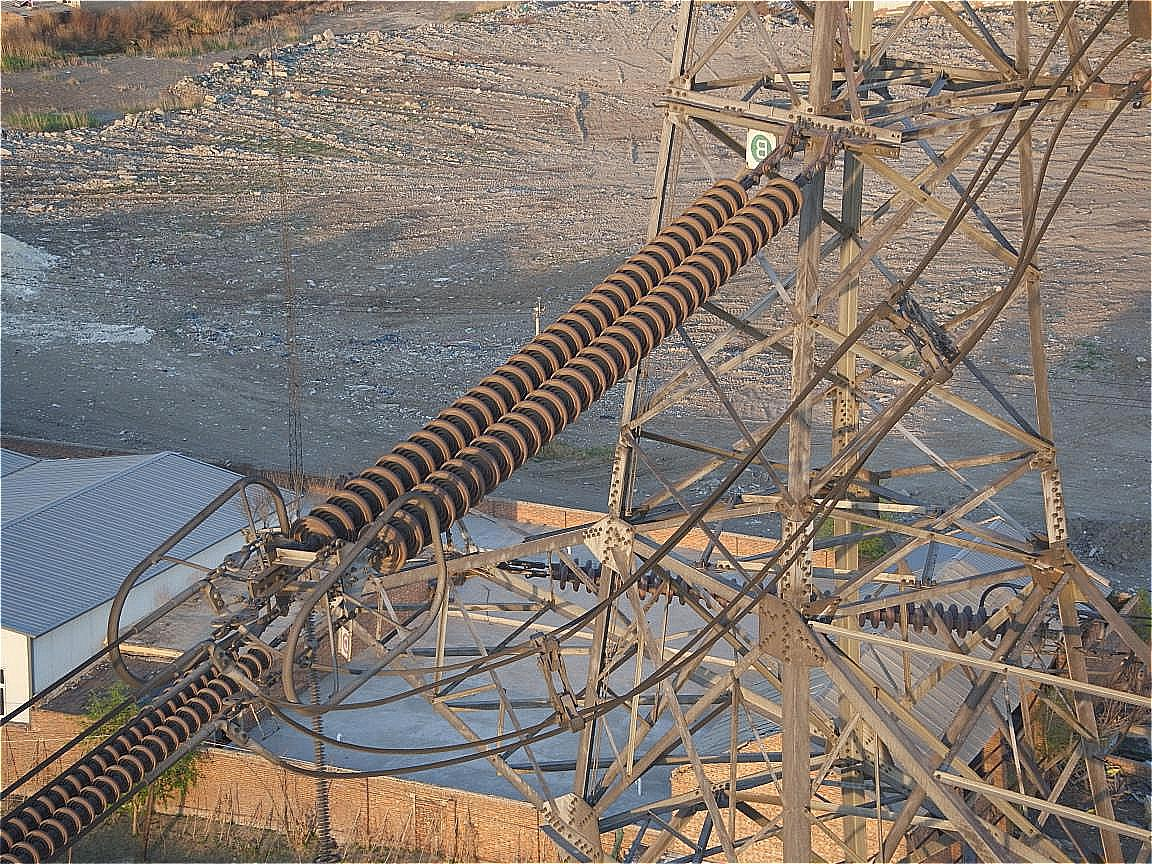insultor1: (289, 154, 841, 583), (1, 633, 301, 864)
